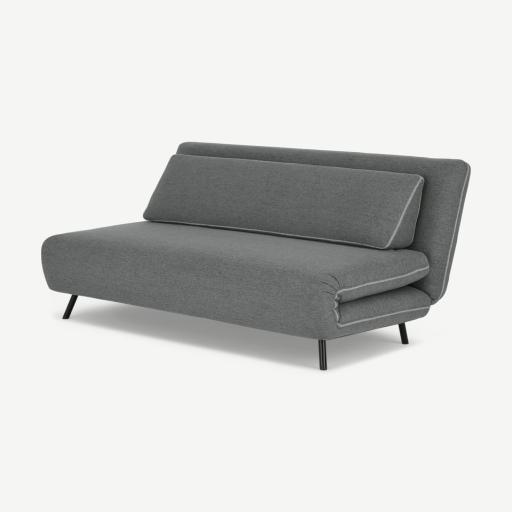back_cushion: (145, 154, 423, 250)
legs: (62, 295, 77, 319), (319, 340, 326, 370), (399, 323, 408, 344)
one-seater: (42, 142, 470, 370)
seat_cushion: (42, 222, 430, 339)
